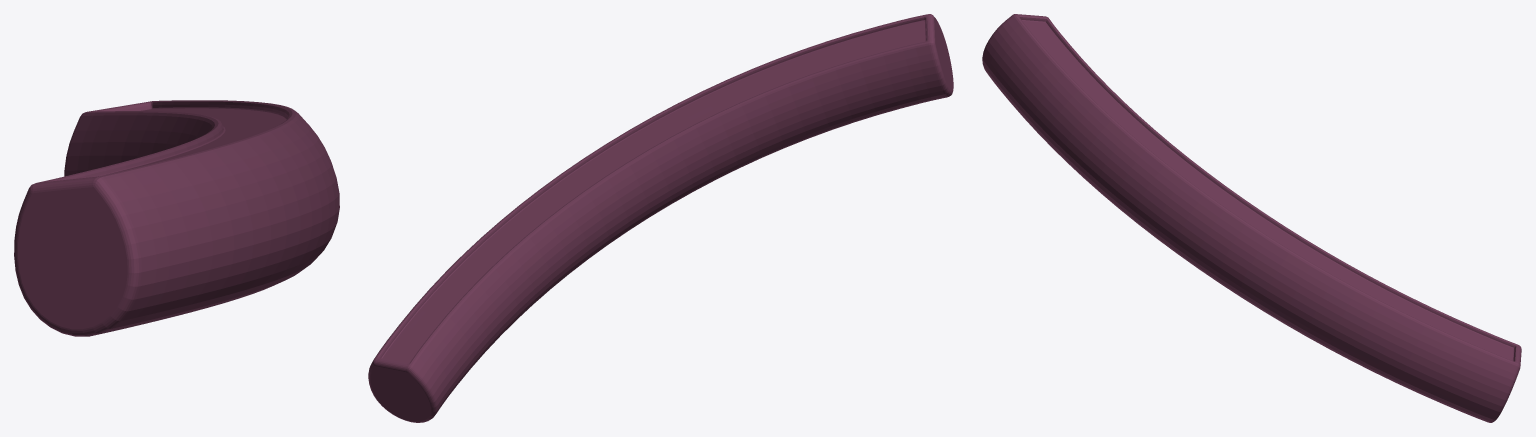
The model's file is Lampe.fbx.
3 renders of one model, left to right at view 1: azimuth 30°, elevation 25°; view 2: azimuth 150°, elevation 25°; view 3: azimuth 270°, elevation 25°, orthographic. The views are drawn at different scales.
Parts seen in each view (by area): view 1: BeInspiration_69:Circle006; view 2: BeInspiration_69:Circle006; view 3: BeInspiration_69:Circle006.
Part boxes in pixels (x1,y1,x2,y2): BeInspiration_69:Circle006: (14, 100, 339, 336); BeInspiration_69:Circle006: (368, 14, 953, 422); BeInspiration_69:Circle006: (982, 14, 1521, 422).
Bounding box in the file's own units: 45.27 × 37.77 × 66.29.
